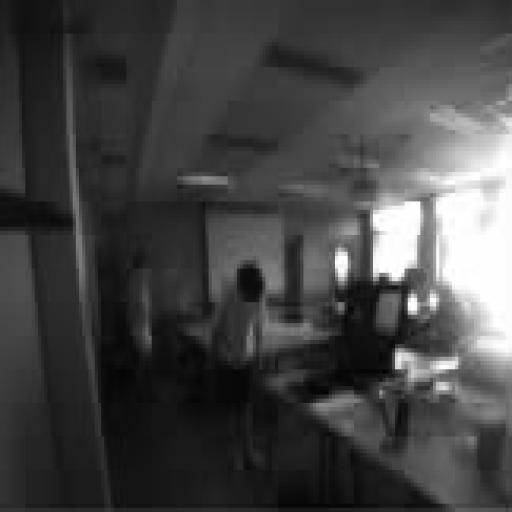human: (212, 261, 265, 470), (127, 252, 154, 394)
